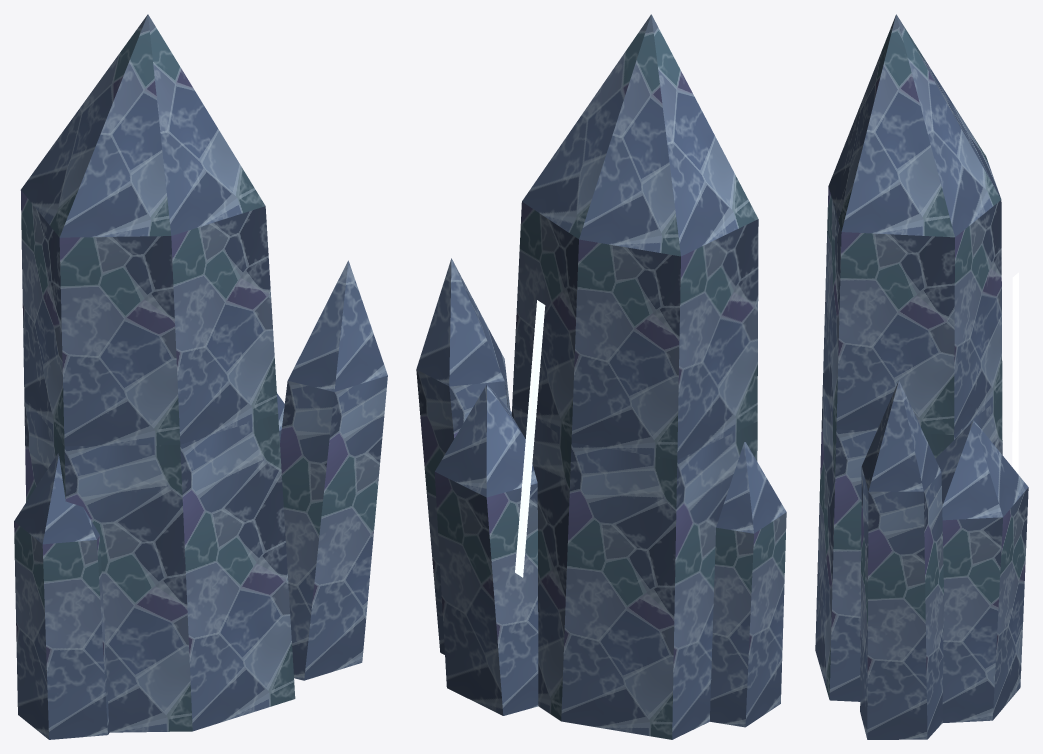
File: Oracle_Crystal_Slab_3_LOD1.gltf
The picture shows the model from 3 angles, left to right: view 1: azimuth 30°, elevation 25°; view 2: azimuth 150°, elevation 25°; view 3: azimuth 270°, elevation 25°; orthographic projection. The views are drawn at different scales.
Visible parts, largest first — view 1: Oracle_Crystal_Slab_3_LOD1; view 2: Oracle_Crystal_Slab_3_LOD1; view 3: Oracle_Crystal_Slab_3_LOD1.
Boxes of the visible parts, x1,y1,x2,y2 form: Oracle_Crystal_Slab_3_LOD1: (14, 14, 387, 739); Oracle_Crystal_Slab_3_LOD1: (416, 14, 786, 739); Oracle_Crystal_Slab_3_LOD1: (815, 14, 1028, 739).
Bounding box in the file's own units: 9.35 × 17.68 × 5.37.
2 materials, 2 textured.
